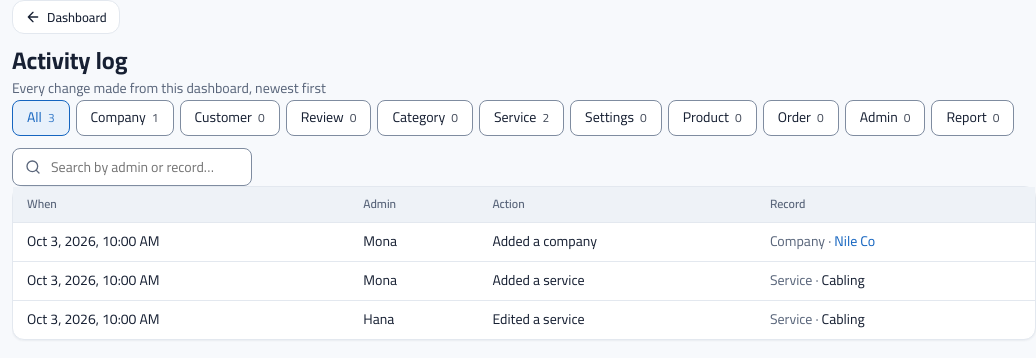
it: Activity log page › filters by record type and by search
This screenshot has width=1036, height=358.
Click the button "Service 2". click: point(522, 118)
box: [479,100,564,136]
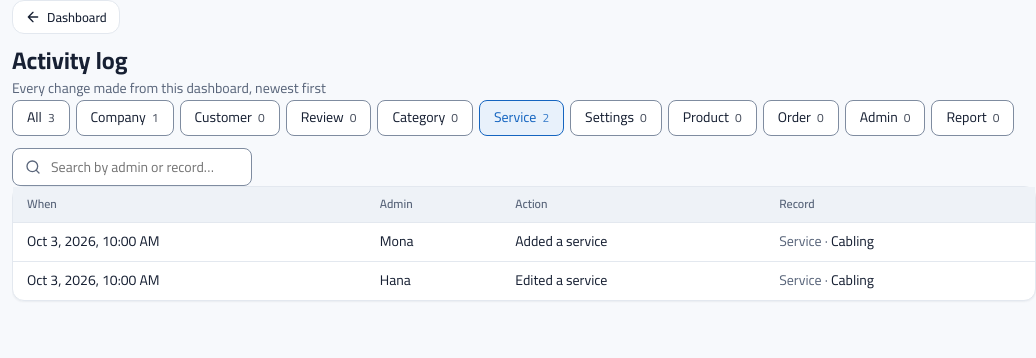
Type "hana" into the search field with placeholder "Search by admin or record…". click: point(144, 168)
box: [49,150,239,186]
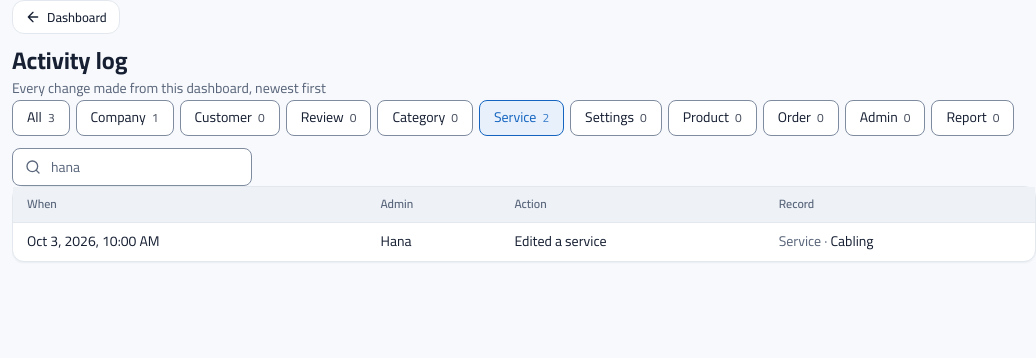
Replace the text in the search field with placeholder "Search by admin or record…" with "zzz". click: point(144, 168)
box: [49,150,239,186]
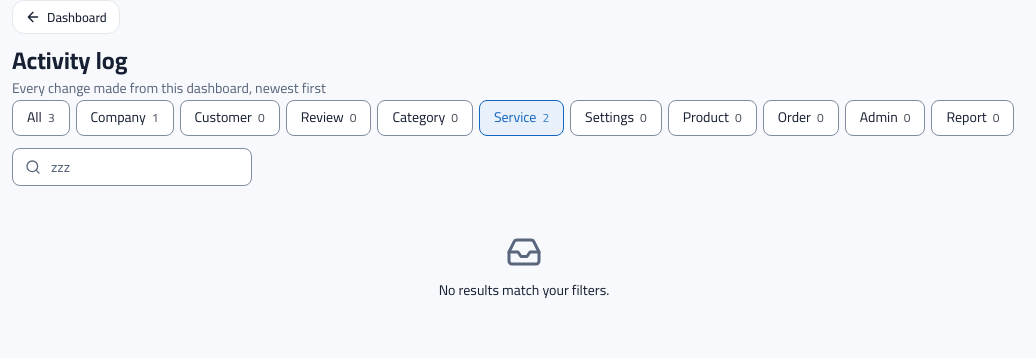
Expected: the text "No results match your filters." is shown, [439,280,609,302]
